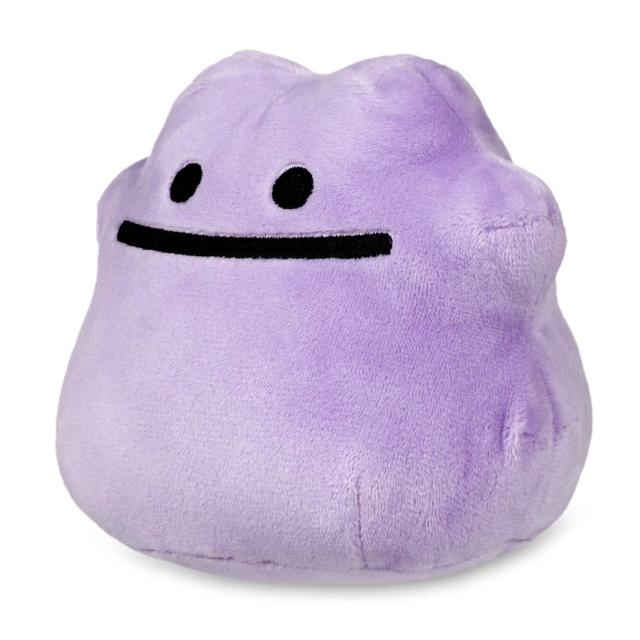Ditto: (56, 46, 591, 590)
